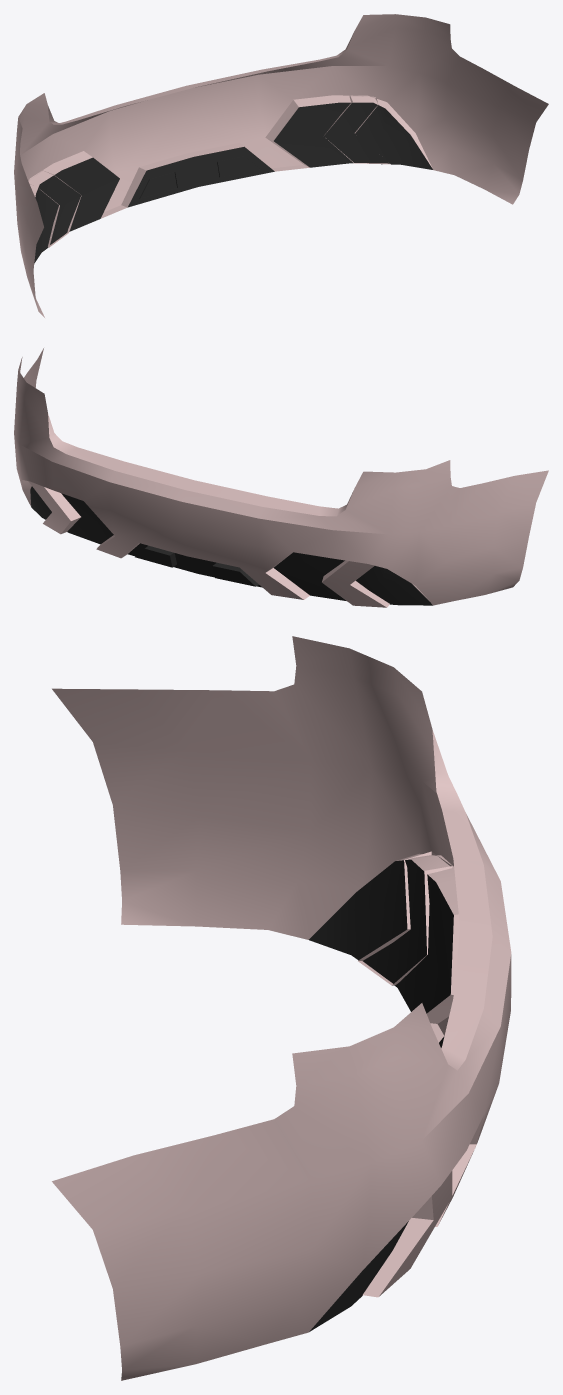
File: Classic_14_Bumper_B_3.fbx
3 renders of one model, top to bottom at view 1: azimuth 30°, elevation 25°; view 2: azimuth 150°, elevation 25°; view 3: azimuth 270°, elevation 25°, orthographic. The views are drawn at different scales.
Parts seen in each view (by area): view 1: Classic_14_Bumper_B_3; view 2: Classic_14_Bumper_B_3; view 3: Classic_14_Bumper_B_3.
Part boxes in pixels (x1,y1,x2,y2): Classic_14_Bumper_B_3: [14, 14, 548, 317]; Classic_14_Bumper_B_3: [14, 348, 548, 607]; Classic_14_Bumper_B_3: [52, 636, 511, 1380].
Bounding box in the file's own units: 206 × 60.02 × 81.18.
